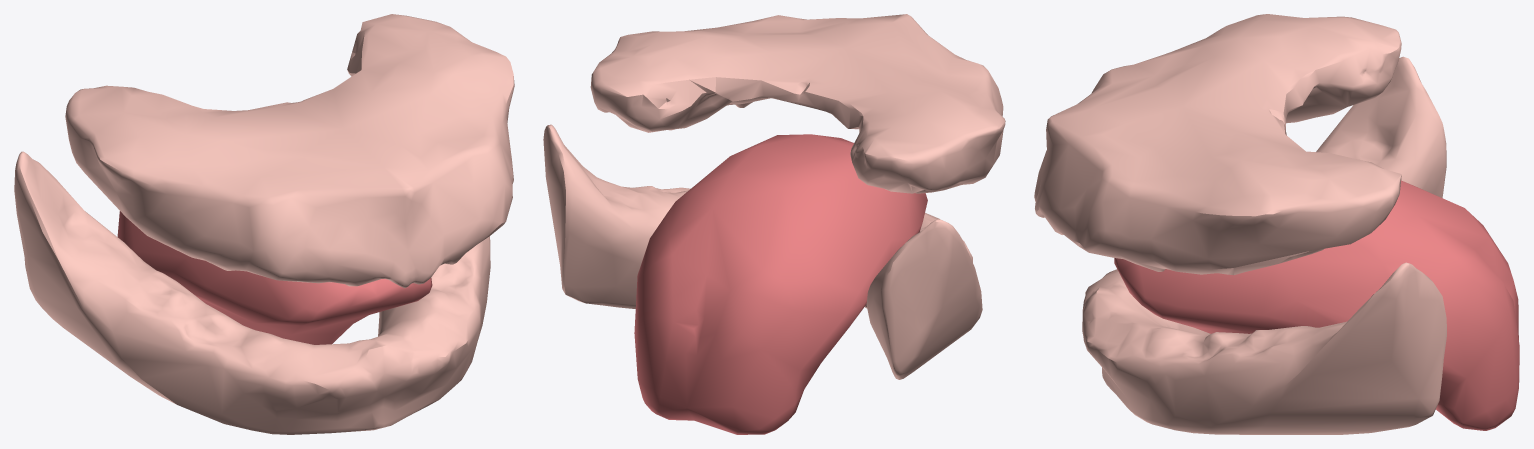
File: mouth.glb
3 renders of one model, left to right at view 1: azimuth 30°, elevation 25°; view 2: azimuth 150°, elevation 25°; view 3: azimuth 270°, elevation 25°, orthographic. The views are drawn at different scales.
Visible parts, largest first — view 1: FJ1252, FJ1253, FJ2761; view 2: FJ2761, FJ1252, FJ1253; view 3: FJ1252, FJ1253, FJ2761.
Part boxes in pixels (x1,y1,x2,y2): FJ1252: [65, 14, 514, 287]; FJ1253: [14, 151, 490, 434]; FJ2761: [117, 211, 432, 344]; FJ2761: [634, 134, 927, 434]; FJ1252: [590, 14, 1005, 193]; FJ1253: [543, 124, 982, 379]; FJ1252: [1034, 14, 1401, 275]; FJ1253: [1082, 56, 1446, 434]; FJ2761: [1114, 180, 1519, 430].
Bounding box in the file's own units: 2.7 × 1.75 × 2.55.
